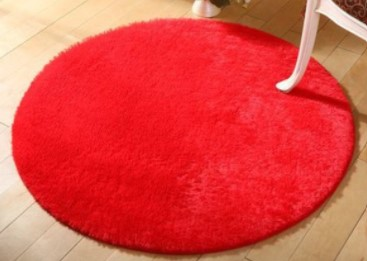su birakma alani: (11, 16, 355, 255)
